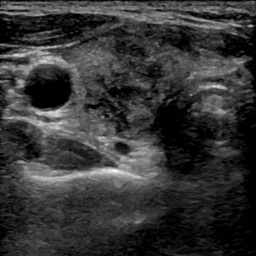mass: (84, 34, 169, 131)
